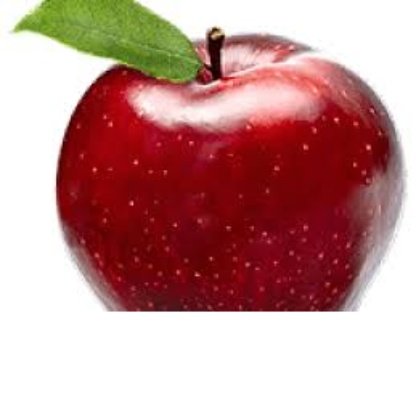tao: (59, 32, 403, 304)
